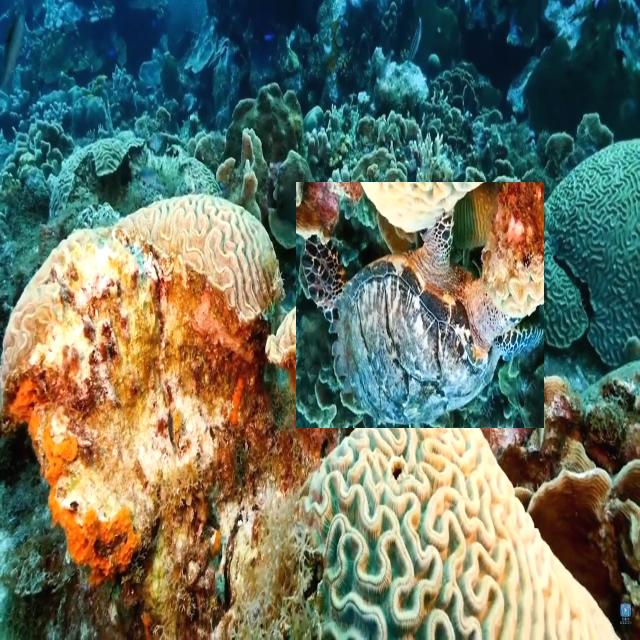Sea turtle: (296, 182, 544, 428)
